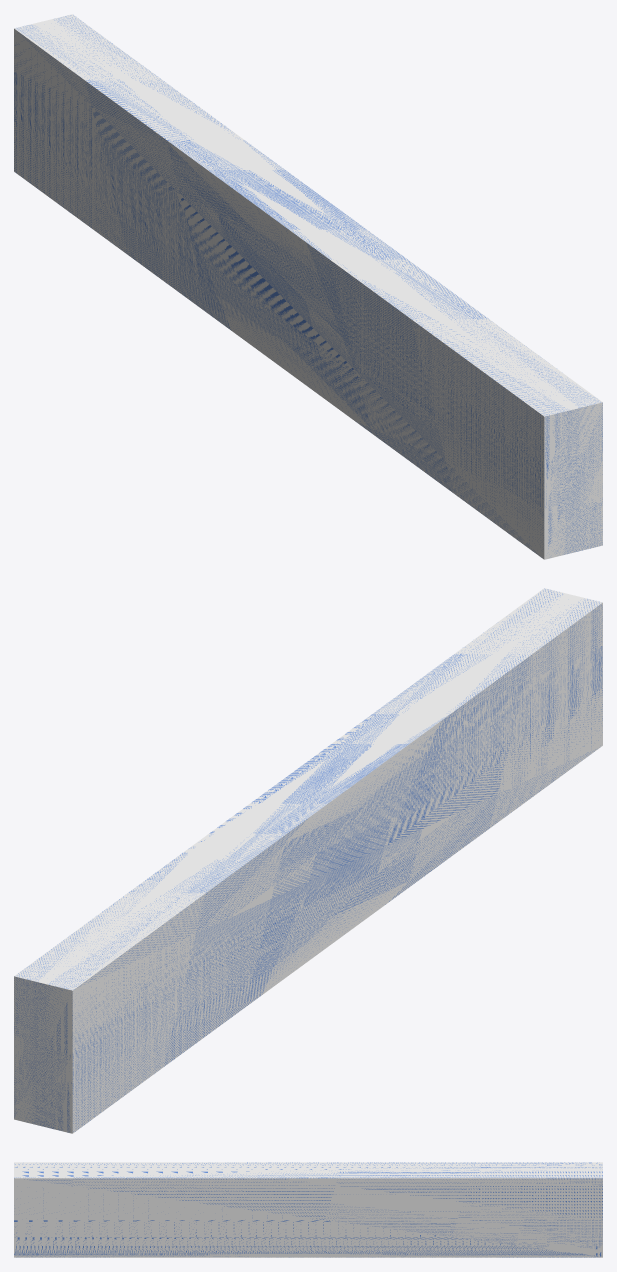
The model's file is original-3.obj.
The picture shows the model from 3 angles, top to bottom: view 1: azimuth 30°, elevation 25°; view 2: azimuth 150°, elevation 25°; view 3: azimuth 270°, elevation 25°; orthographic projection. The views are drawn at different scales.
Visible parts, largest first — view 1: Bottom_Left_Vertical_Slider/Bottom_Vertical_Slider/mesh2/mesh2-g; view 2: Bottom_Left_Vertical_Slider/Bottom_Vertical_Slider/mesh2/mesh2-g; view 3: Bottom_Left_Vertical_Slider/Bottom_Vertical_Slider/mesh2/mesh2-g.
Boxes of the visible parts, box(x1,y1,x2,y2) form: Bottom_Left_Vertical_Slider/Bottom_Vertical_Slider/mesh2/mesh2-g: box(14, 14, 602, 559); Bottom_Left_Vertical_Slider/Bottom_Vertical_Slider/mesh2/mesh2-g: box(14, 588, 602, 1133); Bottom_Left_Vertical_Slider/Bottom_Vertical_Slider/mesh2/mesh2-g: box(14, 1162, 602, 1257).
Bounding box in the file's own units: 0.0301 × 0.0702 × 0.4712.
